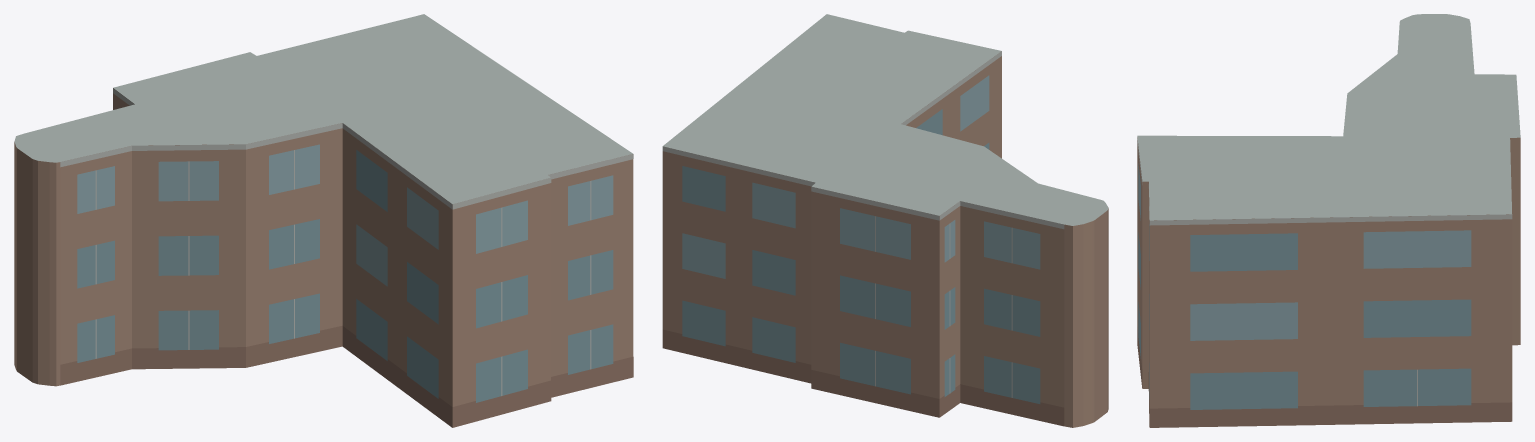
The model's file is survey-upis-33030885.glb.
3 views of the same model, side by side, from view 1: azimuth 30°, elevation 25°; view 2: azimuth 150°, elevation 25°; view 3: azimuth 270°, elevation 25° (orthographic). The views are drawn at different scales.
Visible parts, largest first — view 1: survey-upis-33030885.tmp; view 2: survey-upis-33030885.tmp; view 3: survey-upis-33030885.tmp.
Boxes of the visible parts, left/top/right/bottom form: survey-upis-33030885.tmp: left=14, top=14, right=633, bottom=427; survey-upis-33030885.tmp: left=662, top=14, right=1108, bottom=427; survey-upis-33030885.tmp: left=1137, top=14, right=1520, bottom=427.
Size of the model in its own units: 21.8 by 10.2 by 17.1.
